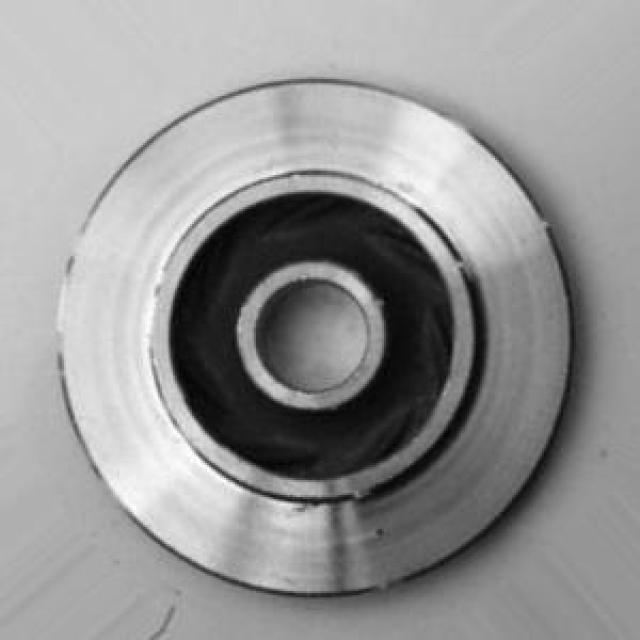Defect: (370, 522, 392, 543)
